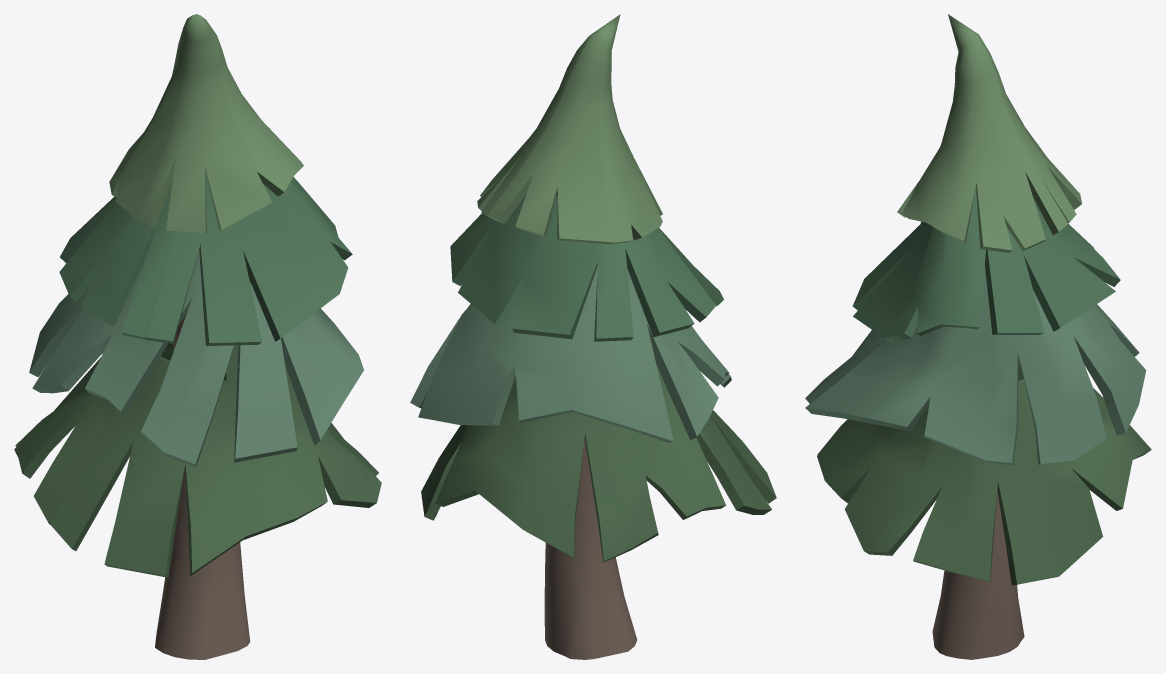
Rendered from Arbol1.fbx.
The picture shows the model from 3 angles, left to right: view 1: azimuth 30°, elevation 25°; view 2: azimuth 150°, elevation 25°; view 3: azimuth 270°, elevation 25°; orthographic projection. The views are drawn at different scales.
Parts seen in each view (by area): view 1: Hojas1, Hojas2, Hojas3, Hojas4, Tronco; view 2: Hojas1, Hojas2, Hojas3, Hojas4, Tronco; view 3: Hojas1, Hojas2, Hojas3, Hojas4, Tronco.
Boxes of the visible parts, bbox=[...] form: Hojas1: bbox=[14, 279, 381, 577]; Hojas2: bbox=[29, 249, 363, 467]; Hojas3: bbox=[59, 169, 352, 345]; Hojas4: bbox=[109, 14, 303, 233]; Tronco: bbox=[155, 312, 250, 659]; Hojas1: bbox=[421, 364, 776, 562]; Hojas2: bbox=[410, 267, 731, 442]; Hojas3: bbox=[450, 194, 723, 341]; Hojas4: bbox=[477, 14, 662, 244]; Tronco: bbox=[544, 190, 637, 659]; Hojas1: bbox=[817, 355, 1151, 585]; Hojas2: bbox=[805, 266, 1146, 465]; Hojas3: bbox=[852, 187, 1120, 342]; Hojas4: bbox=[897, 14, 1081, 252]; Tronco: bbox=[932, 490, 1024, 659].
Bounding box in the file's own units: 3.69 × 7.02 × 3.58.
